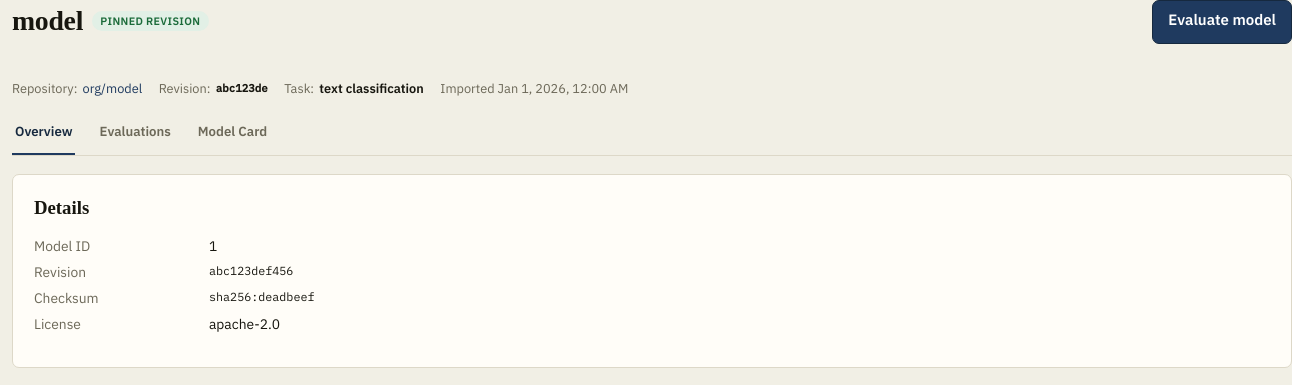
Test: a failed evaluations request does not hide the model; Retry reloads
Expected: the text "Pinned revision" is shown, [92, 11, 209, 31]
Click the tab "Evaluations" at [135, 132], box [96, 110, 174, 154]
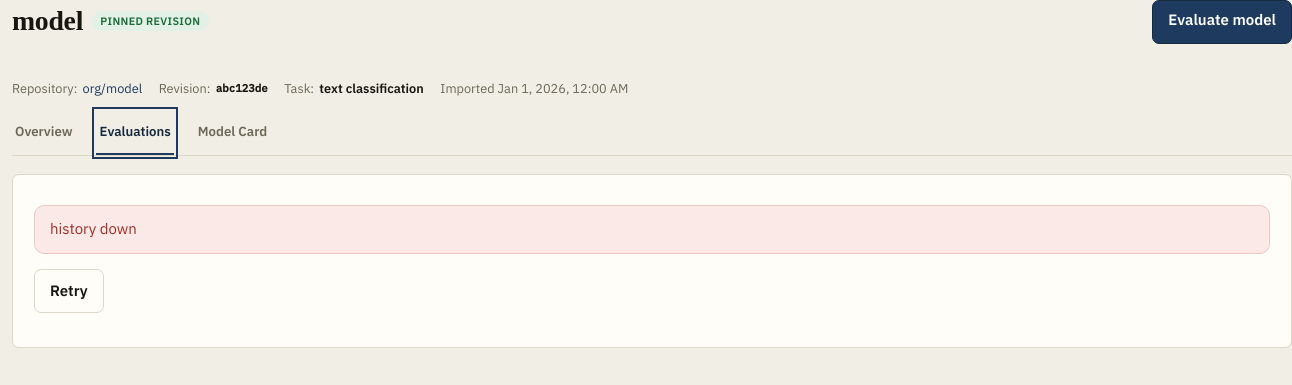
Now the message reads "history down", box [50, 219, 137, 238]
Click the button "Retry" at [69, 291], box [34, 269, 104, 313]
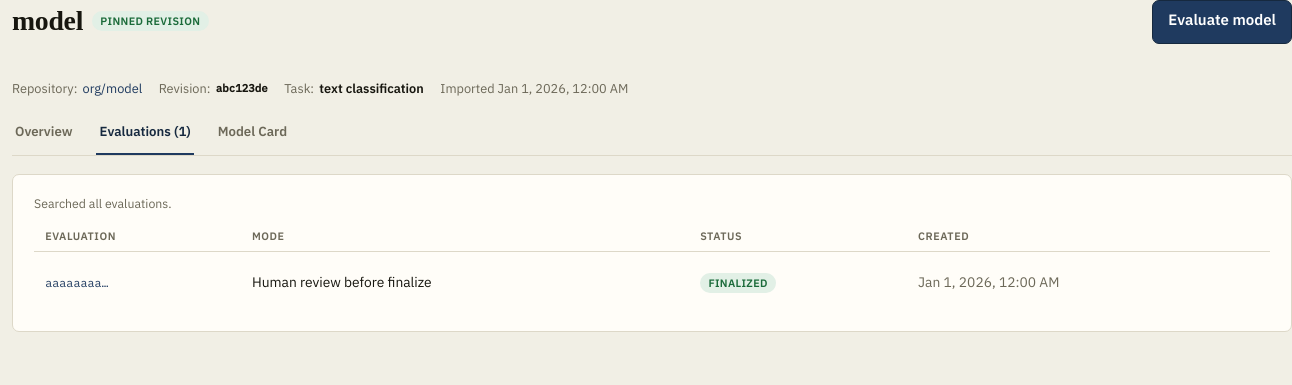
Now the link named "Evaluation aaaaaaaa" is shown, box [45, 275, 109, 290]
